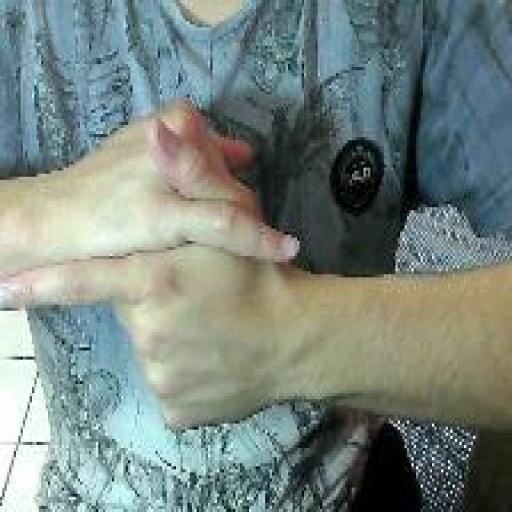U -hare-: (0, 96, 302, 440)
